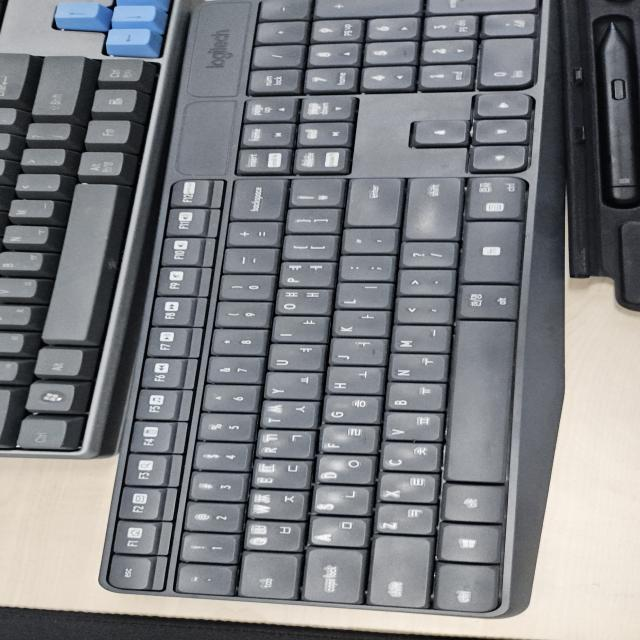Keyboard: (4, 0, 634, 622)
